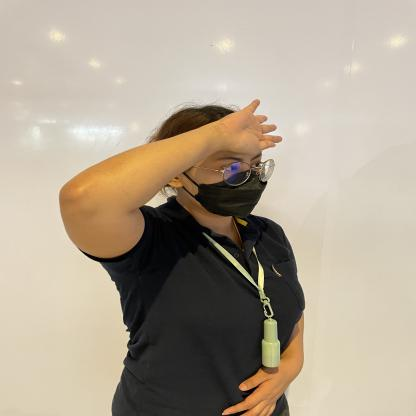Sick: (157, 86, 302, 157)
